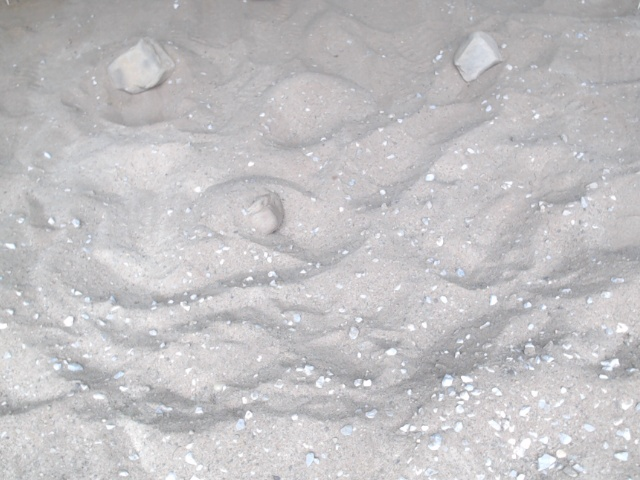rock: (103, 32, 179, 100), (448, 26, 506, 88), (243, 187, 287, 240)
